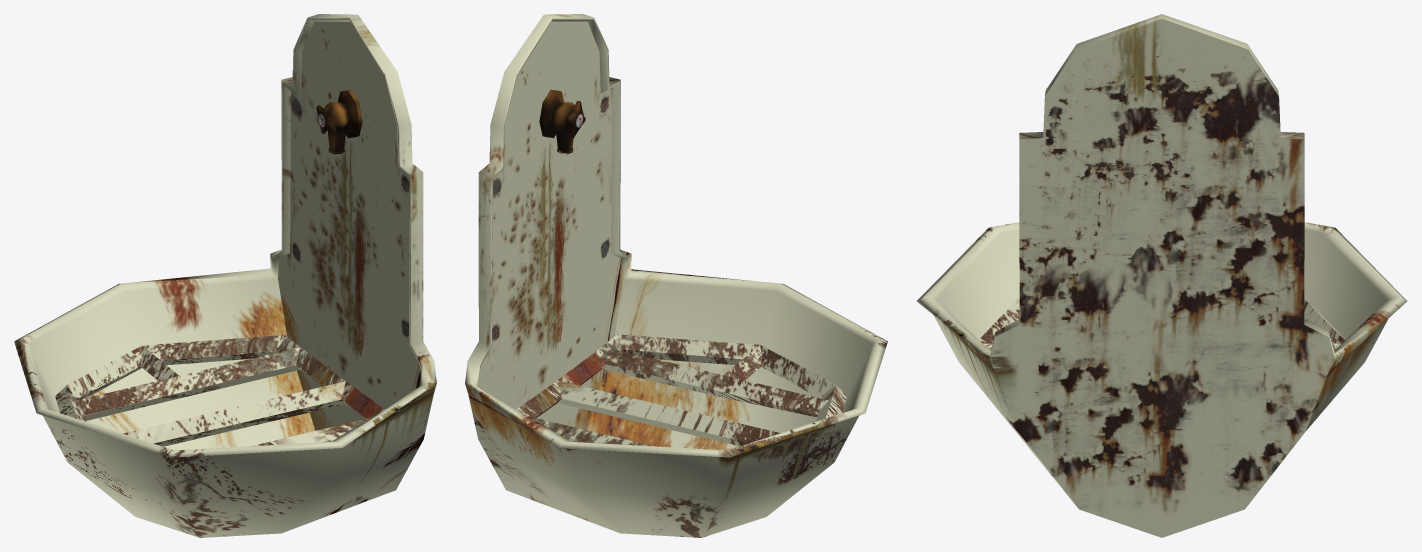
The model's file is old_lavabo.glb.
3 views of the same model, side by side, from view 1: azimuth 30°, elevation 25°; view 2: azimuth 150°, elevation 25°; view 3: azimuth 270°, elevation 25° (orthographic). The views are drawn at different scales.
Parts seen in each view (by area): view 1: Object_2; view 2: Object_2; view 3: Object_2.
Boxes of the visible parts, x1,y1,x2,y2 form: Object_2: (14,14,436,537); Object_2: (465,14,887,537); Object_2: (916,14,1407,537).
Bounding box in the file's own units: 59.16 × 83.27 × 71.37.
1 material, 1 textured.
